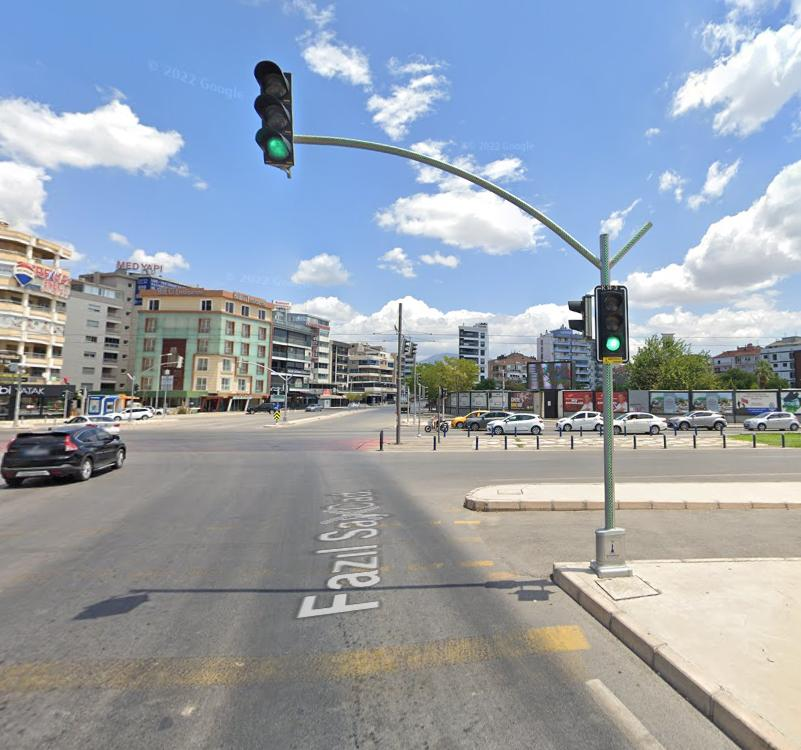greenlight: (254, 59, 295, 172), (598, 285, 629, 364)
